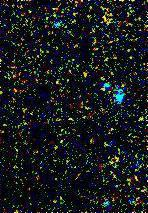star: (65, 58, 95, 88)
